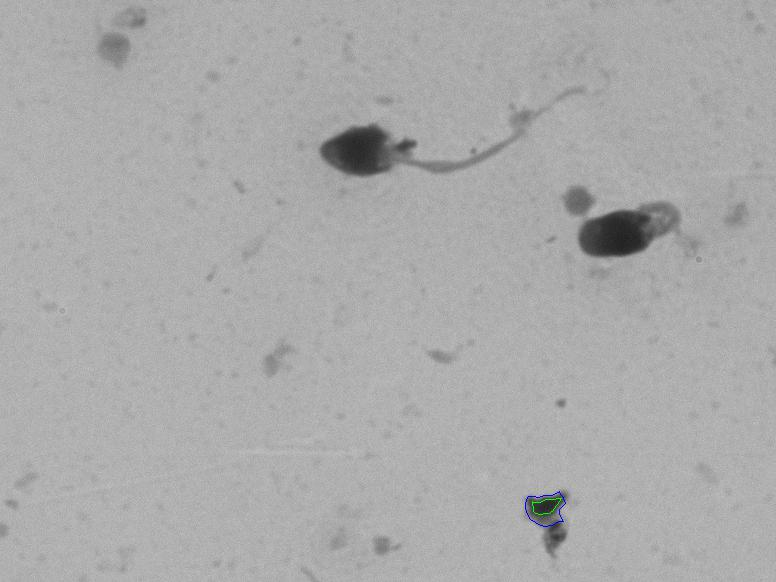Abnormal: (290, 59, 576, 210), (519, 159, 702, 295)
